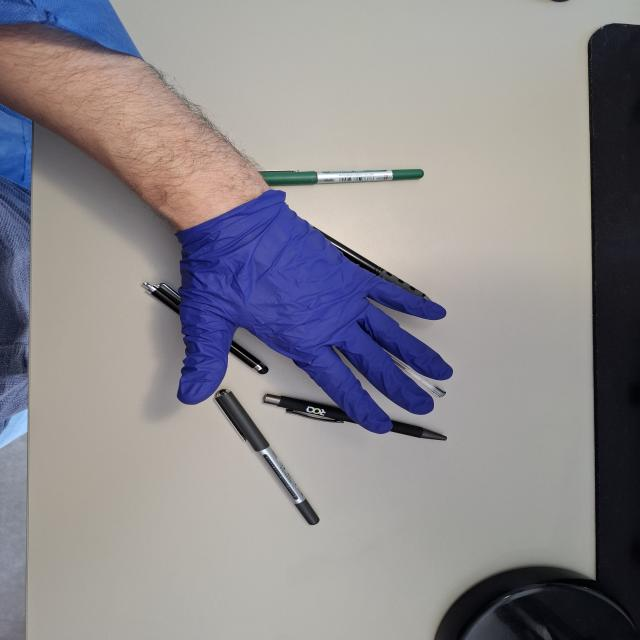glove_on: (172, 193, 456, 436)
